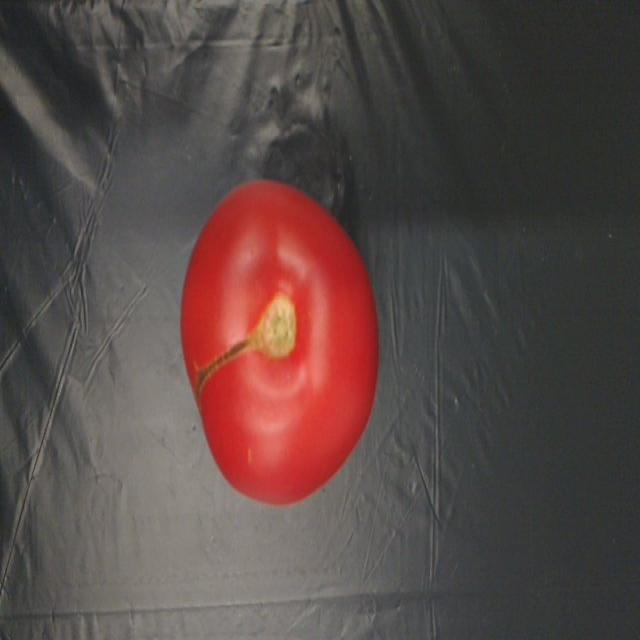kirmizi: (180, 160, 384, 514)
